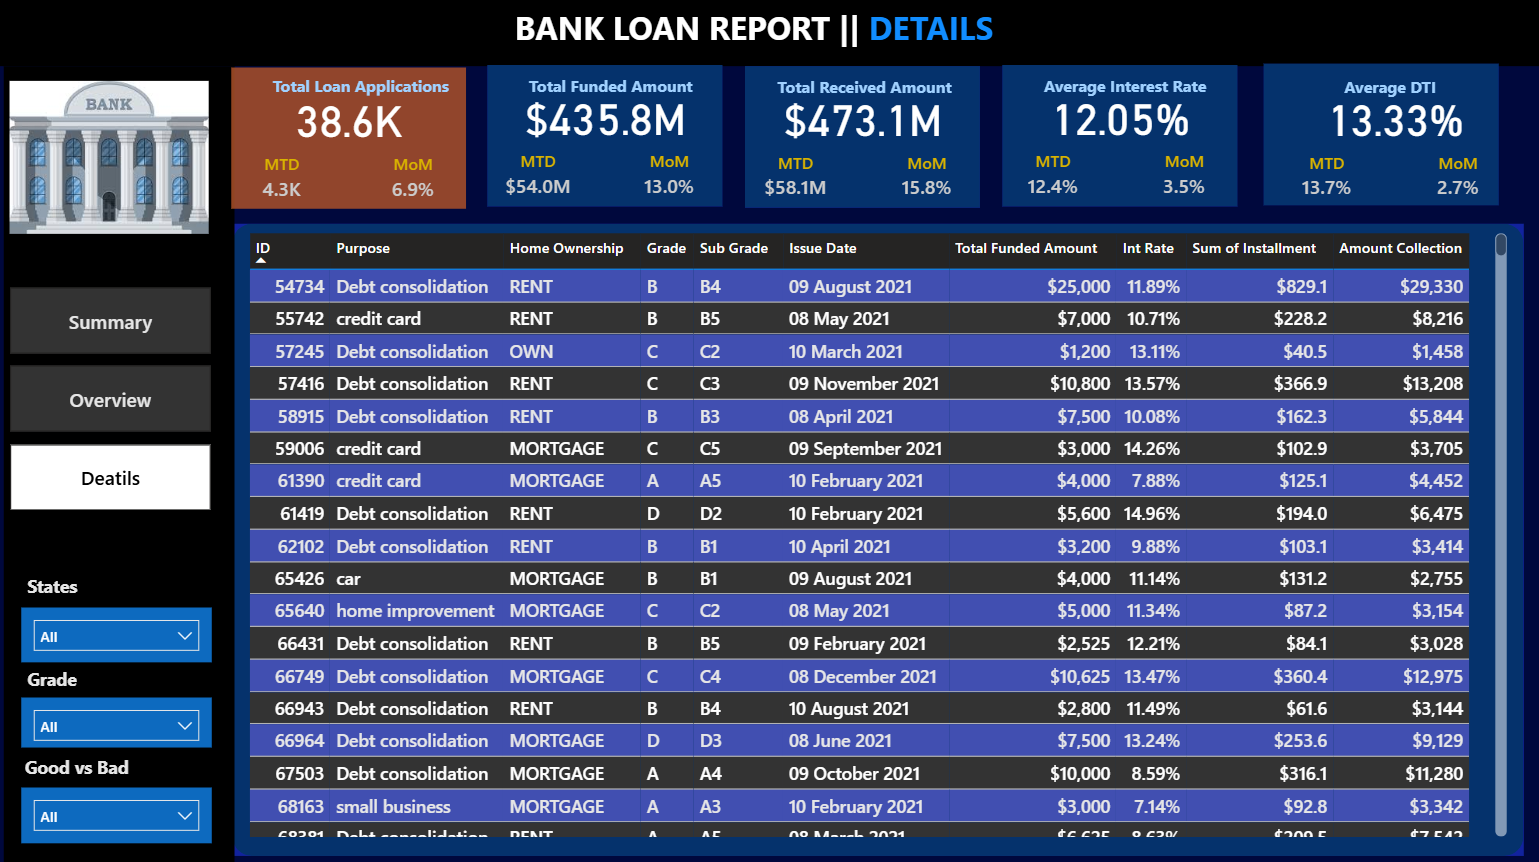

What the dashboard file says about the page in this screenshot:
{"tool":"powerbi","page":{"name":"Deatils","canvas":[1280,720],"ordinal":2},"visuals":[{"type":"shape","box":[1051,52.8,195.6,117.8],"z":0,"group":"g5"},{"type":"shape","box":[405.6,54.4,195.3,117.4],"z":0,"group":"g2"},{"type":"shape","box":[833.3,54.4,195.3,117.4],"z":0,"group":"g4"},{"type":"shape","box":[618.9,55.6,195.3,117.4],"z":0,"group":"g3"},{"type":"shape","box":[191.9,55.8,195.3,117.4],"z":0,"group":"g1"},{"type":"shape","box":[193,186,1073.3,525.6],"z":0},{"type":"shape","box":[0,0,1280.3,55],"z":1000},{"type":"card","fields":{"Values":["bank_loan_data.Total Funded Amount"]},"box":[407.1,71.9,194.4,48.9],"z":1000,"group":"g2"},{"type":"card","fields":{"Values":["bank_loan_data.Avg Interest Rate"]},"box":[834.8,71.9,194.4,48.9],"z":1000,"group":"g4"},{"type":"card","fields":{"Values":["bank_loan_data.Avg DTI"]},"box":[1063.1,72.4,194.4,48.9],"z":1000,"group":"g5"},{"type":"card","fields":{"Values":["bank_loan_data.Total Received Amount"]},"box":[620.4,73.1,194.4,48.9],"z":1000,"group":"g3"},{"type":"card","fields":{"Values":["bank_loan_data.Total Loan Applications"]},"box":[193.4,73.3,194.4,48.9],"z":1000,"group":"g1"},{"type":"shape","box":[3.5,54.7,191.9,665.1],"z":2000},{"type":"textbox","box":[192.1,57.1,193.3,27.8],"z":2000,"group":"g1"},{"type":"textbox","box":[405.6,57.9,195.3,27.9],"z":2000,"group":"g2"},{"type":"textbox","box":[833.3,57.9,195.3,27.9],"z":2000,"group":"g4"},{"type":"textbox","box":[1061.6,58.4,195.3,27.9],"z":2000,"group":"g5"},{"type":"textbox","box":[618.9,59.1,195.3,27.9],"z":2000,"group":"g3"},{"type":"textbox","box":[422.6,0,716.3,56.3],"z":3000},{"type":"card","title":"MTD","fields":{"Values":["bank_loan_data.MTD Funded Amount"]},"box":[414.9,125.3,65.6,46.7],"z":3000,"group":"g2"},{"type":"card","title":"MTD","fields":{"Values":["bank_loan_data.MTD Avg Interest Rate"]},"box":[842.6,125.3,65.6,46.7],"z":3000,"group":"g4"},{"type":"card","title":"MTD","fields":{"Values":["bank_loan_data.MTD Avg DTI"]},"box":[1070.9,125.8,65.6,46.7],"z":3000,"group":"g5"},{"type":"card","title":"MTD","fields":{"Values":["bank_loan_data.MTD Total Received Amount"]},"box":[628.2,126.5,65.6,46.7],"z":3000,"group":"g3"},{"type":"card","title":"MTD","fields":{"Values":["bank_loan_data.MTD Loan Applications"]},"box":[201.2,126.7,65.6,46.7],"z":3000,"group":"g1"},{"type":"group","id":"g1","title":"Group 1","box":[191.9,55.8,195.9,117.5],"z":4000},{"type":"card","title":"MoM","fields":{"Values":["bank_loan_data.MoM Funded Amount"]},"box":[523.7,125.3,65.6,46.7],"z":4000,"group":"g2"},{"type":"card","title":"MoM","fields":{"Values":["bank_loan_data.MoM Avg Interest Rate"]},"box":[951.4,125.3,65.6,46.7],"z":4000,"group":"g4"},{"type":"card","title":"MoM","fields":{"Values":["bank_loan_data.MoM Avg DTI"]},"box":[1179.8,125.8,65.6,46.7],"z":4000,"group":"g5"},{"type":"card","title":"MoM","fields":{"Values":["bank_loan_data.MoM Total Received Amount"]},"box":[737,126.5,65.6,46.7],"z":4000,"group":"g3"},{"type":"card","title":"MoM","fields":{"Values":["bank_loan_data.MoM Loan Applications"]},"box":[310,126.7,65.6,46.7],"z":4000,"group":"g1"},{"type":"group","id":"g2","title":"Group 1","box":[405.6,54.4,195.6,117.8],"z":5000},{"type":"group","id":"g3","title":"Group 1","box":[618.9,55.6,195.6,117.8],"z":6000},{"type":"group","id":"g4","title":"Group 1","box":[833.3,54.4,195.6,117.8],"z":7000},{"type":"group","id":"g5","title":"Group 1","box":[1051,52.8,206.5,119.6],"z":8000},{"type":"slicer","fields":{"Values":["bank_loan_data.address_state"]},"box":[17.4,504.7,158.1,45.3],"z":9000},{"type":"textbox","box":[17.4,472.1,65.1,32.6],"z":10000},{"type":"slicer","fields":{"Values":["bank_loan_data.grade"]},"box":[17.4,580.2,158.1,41.9],"z":11000},{"type":"textbox","box":[17.4,550,65.1,30.2],"z":12000},{"type":"slicer","fields":{"Values":["bank_loan_data.Good vs Bad Loans"]},"box":[17.4,654.7,158.1,46.5],"z":13000},{"type":"textbox","box":[15.1,622.1,125.6,32.6],"z":14000},{"type":"tableEx","fields":{"Values":["bank_loan_data.id","bank_loan_data.purpose","bank_loan_data.home_ownership","bank_loan_data.grade","bank_loan_data.sub_grade","bank_loan_data.issue_date","bank_loan_data.Total Funded Amount","Sum(bank_loan_data.int_rate)","Sum(bank_loan_data.installment)","bank_loan_data.Total Received Amount"]},"box":[201.2,189.5,1055.8,511.6],"z":17000},{"type":"image","box":[3.5,59.3,175.6,143],"z":18000},{"type":"pageNavigator","box":[8.1,239.5,167.4,186],"z":18001}]}

Visuals, with their boxes in screenshot pixels (x1, y1, x2, y2), scaled from the page's 1280x720 canvas onto the 1539x862 screenshot:
shape: pyautogui.locateOnScreen(1264, 63, 1499, 204)
shape: pyautogui.locateOnScreen(488, 65, 722, 206)
shape: pyautogui.locateOnScreen(1002, 65, 1237, 206)
shape: pyautogui.locateOnScreen(744, 67, 979, 207)
shape: pyautogui.locateOnScreen(231, 67, 466, 207)
shape: pyautogui.locateOnScreen(232, 223, 1523, 852)
shape: pyautogui.locateOnScreen(0, 0, 1538, 66)
card - bank_loan_data.Total Funded Amount: pyautogui.locateOnScreen(489, 86, 723, 145)
card - bank_loan_data.Avg Interest Rate: pyautogui.locateOnScreen(1004, 86, 1237, 145)
card - bank_loan_data.Avg DTI: pyautogui.locateOnScreen(1278, 87, 1512, 145)
card - bank_loan_data.Total Received Amount: pyautogui.locateOnScreen(746, 88, 980, 146)
card - bank_loan_data.Total Loan Applications: pyautogui.locateOnScreen(233, 88, 466, 146)
shape: pyautogui.locateOnScreen(4, 65, 235, 861)
textbox: pyautogui.locateOnScreen(231, 68, 463, 102)
textbox: pyautogui.locateOnScreen(488, 69, 722, 103)
textbox: pyautogui.locateOnScreen(1002, 69, 1237, 103)
textbox: pyautogui.locateOnScreen(1276, 70, 1511, 103)
textbox: pyautogui.locateOnScreen(744, 71, 979, 104)
textbox: pyautogui.locateOnScreen(508, 0, 1369, 67)
"MTD" card: pyautogui.locateOnScreen(499, 150, 578, 206)
"MTD" card: pyautogui.locateOnScreen(1013, 150, 1092, 206)
"MTD" card: pyautogui.locateOnScreen(1288, 151, 1366, 207)
"MTD" card: pyautogui.locateOnScreen(755, 151, 834, 207)
"MTD" card: pyautogui.locateOnScreen(242, 152, 321, 208)
"Group 1" group: pyautogui.locateOnScreen(231, 67, 466, 207)
"MoM" card: pyautogui.locateOnScreen(630, 150, 709, 206)
"MoM" card: pyautogui.locateOnScreen(1144, 150, 1223, 206)
"MoM" card: pyautogui.locateOnScreen(1419, 151, 1497, 207)
"MoM" card: pyautogui.locateOnScreen(886, 151, 965, 207)
"MoM" card: pyautogui.locateOnScreen(373, 152, 452, 208)
"Group 1" group: pyautogui.locateOnScreen(488, 65, 723, 206)
"Group 1" group: pyautogui.locateOnScreen(744, 67, 979, 208)
"Group 1" group: pyautogui.locateOnScreen(1002, 65, 1237, 206)
"Group 1" group: pyautogui.locateOnScreen(1264, 63, 1512, 206)
slicer - bank_loan_data.address_state: pyautogui.locateOnScreen(21, 604, 211, 658)
textbox: pyautogui.locateOnScreen(21, 565, 99, 604)
slicer - bank_loan_data.grade: pyautogui.locateOnScreen(21, 695, 211, 745)
textbox: pyautogui.locateOnScreen(21, 658, 99, 695)
slicer - bank_loan_data.Good vs Bad Loans: pyautogui.locateOnScreen(21, 784, 211, 839)
textbox: pyautogui.locateOnScreen(18, 745, 169, 784)
tableEx - bank_loan_data.id x bank_loan_data.purpose: pyautogui.locateOnScreen(242, 227, 1511, 839)
image: pyautogui.locateOnScreen(4, 71, 215, 242)
pageNavigator: pyautogui.locateOnScreen(10, 287, 211, 509)
